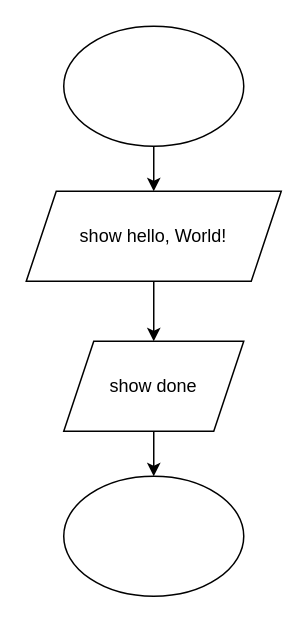
Image size: 308x623. Some labels were removed from this diagram. Each missing label, with the centre of its shape:
start: the point at 153,85
stop: the point at 153,535
